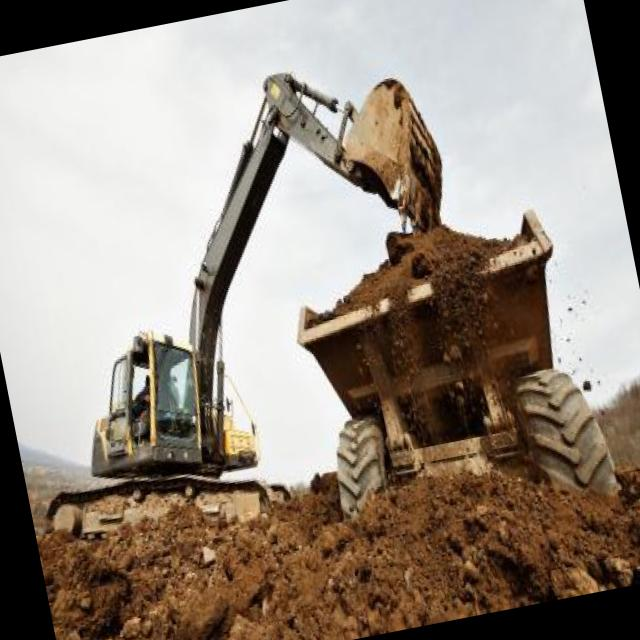Camion volquete: (282, 204, 622, 556)
Excavadora: (0, 39, 504, 558)
